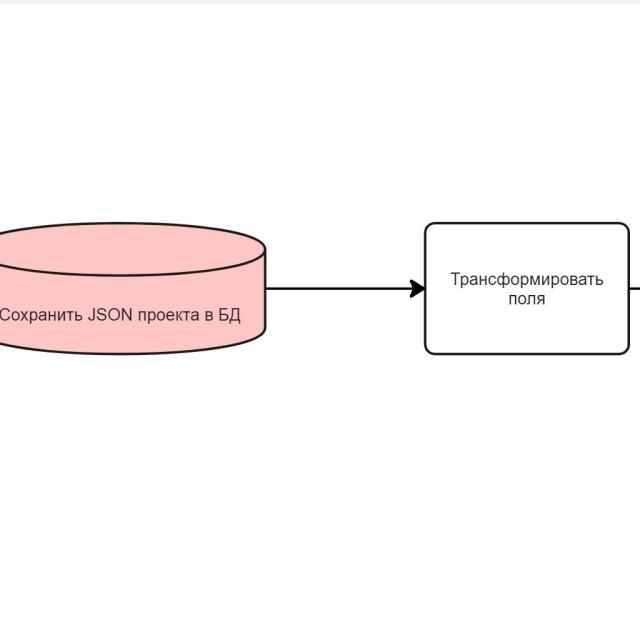arrow: (267, 280, 424, 297)
rectangle: (425, 222, 629, 354)
